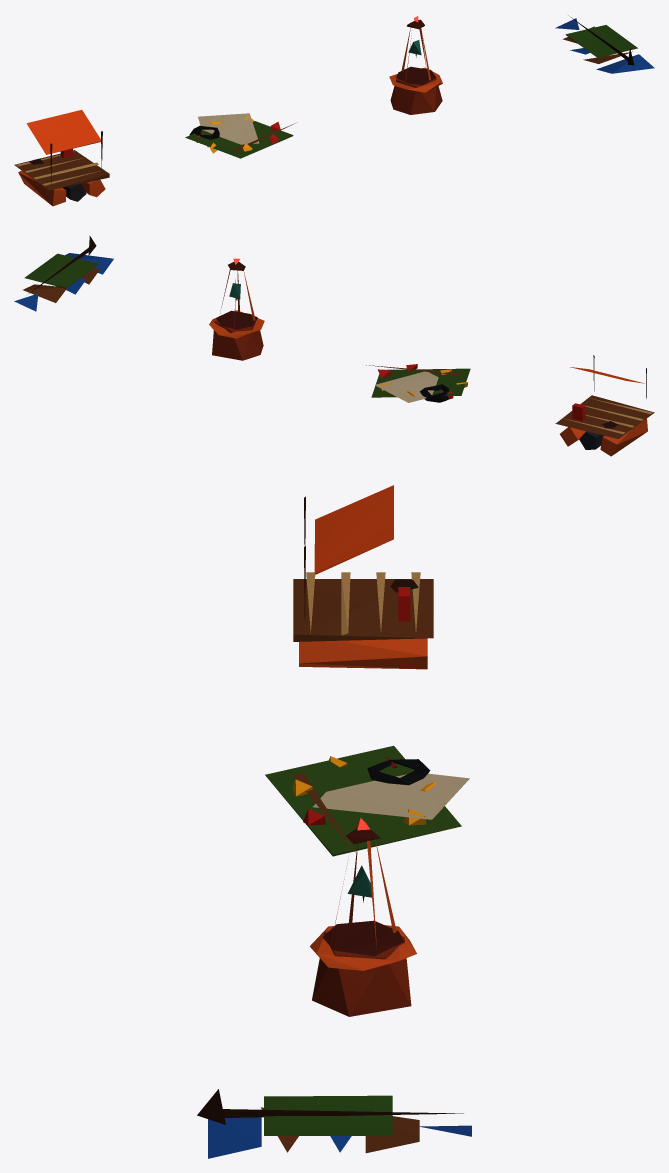
The model's file is tb_flotsam_kit.three-web-toon.lod25.glb.
3 views of the same model, one above another, from view 1: azimuth 30°, elevation 25°; view 2: azimuth 150°, elevation 25°; view 3: azimuth 270°, elevation 25° (orthographic). The views are drawn at different scales.
Parts seen in each view (by area): view 1: barrel_raft_lod, net_tangle_lod, bell_buoy_lod, hull_shard_lod; view 2: barrel_raft_lod, net_tangle_lod, hull_shard_lod, bell_buoy_lod; view 3: barrel_raft_lod, net_tangle_lod, hull_shard_lod, bell_buoy_lod.
Part boxes in pixels (x1,y1,x2,y2): barrel_raft_lod: [14, 110, 109, 206]; net_tangle_lod: [185, 113, 297, 158]; bell_buoy_lod: [389, 16, 442, 114]; hull_shard_lod: [555, 15, 654, 73]; barrel_raft_lod: [555, 355, 654, 456]; net_tangle_lod: [366, 364, 470, 402]; hull_shard_lod: [14, 235, 113, 311]; bell_buoy_lod: [209, 258, 264, 360]; barrel_raft_lod: [293, 485, 433, 669]; net_tangle_lod: [265, 745, 469, 856]; hull_shard_lod: [197, 1089, 471, 1158]; bell_buoy_lod: [310, 818, 416, 1016].
Bounding box in the file's own units: 23.15 × 3.31 × 4.71.
